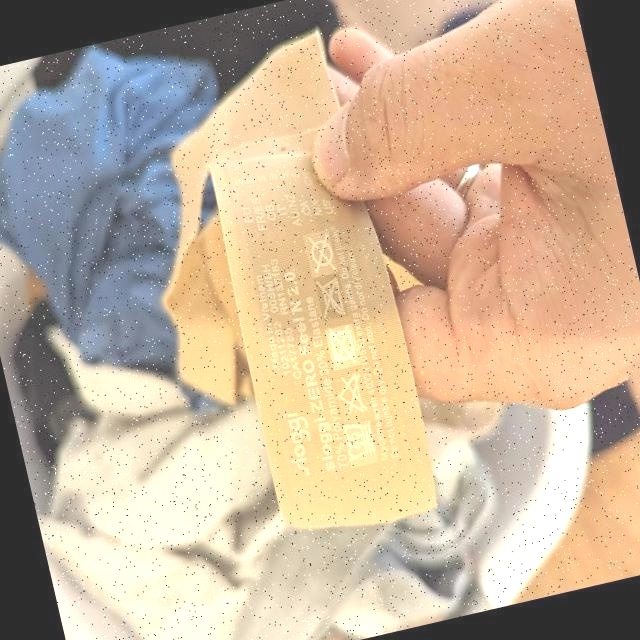40C: (345, 421, 376, 463)
DN_bleach: (339, 373, 366, 415)
DN_dry_clean: (309, 235, 336, 276)
DN_iron: (318, 279, 345, 321)
DN_tumble_dry: (331, 326, 357, 368)
